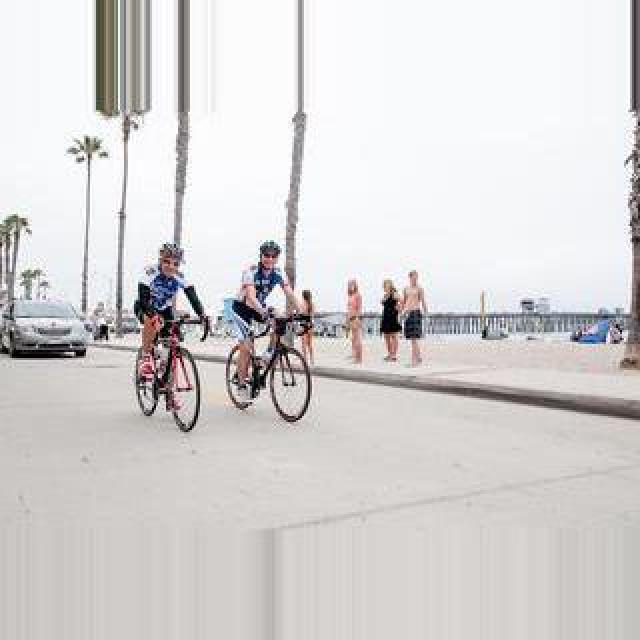Bus-Bike: (0, 298, 90, 358)
MC-Bike: (134, 244, 212, 390), (230, 240, 302, 384), (398, 270, 428, 368), (378, 280, 402, 364), (344, 276, 366, 362), (294, 290, 318, 362)
Person: (226, 310, 312, 422), (134, 314, 204, 432)
